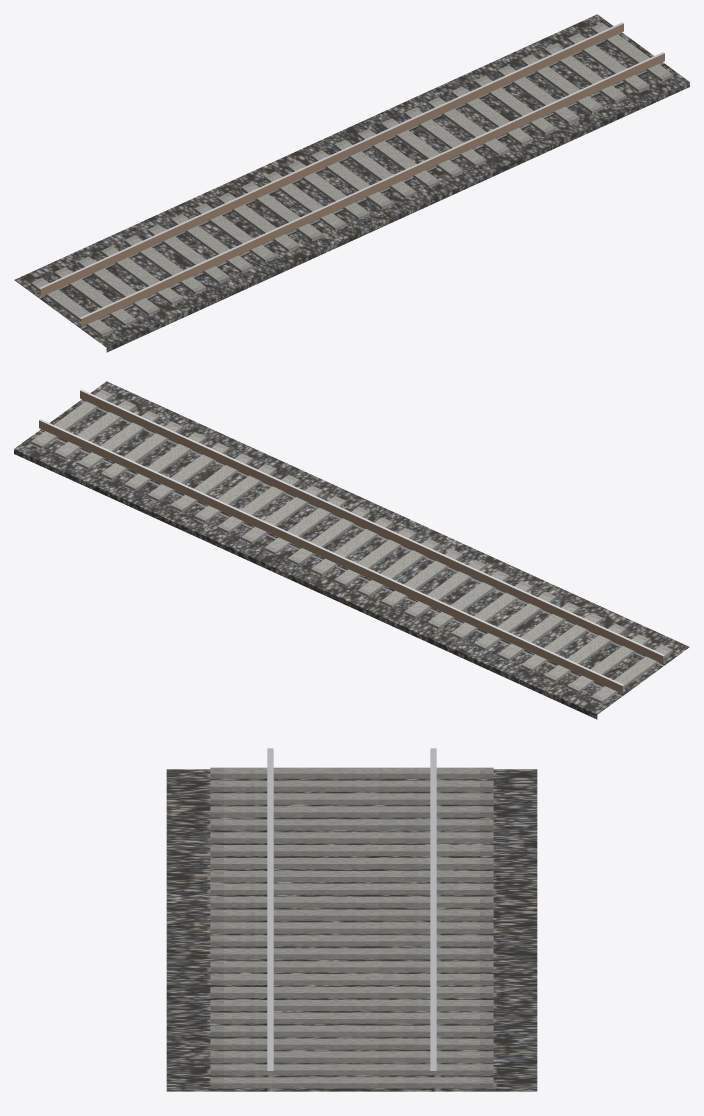
Rendered from kolej_svah_beton_siroka.glb.
The picture shows the model from 3 angles, top to bottom: view 1: azimuth 30°, elevation 25°; view 2: azimuth 150°, elevation 25°; view 3: azimuth 270°, elevation 25°; orthographic projection. The views are drawn at different scales.
Parts seen in each view (by area): view 1: kolej_svah_beton_siroka; view 2: kolej_svah_beton_siroka; view 3: kolej_svah_beton_siroka.
Boxes of the visible parts, x1,y1,x2,y2 form: kolej_svah_beton_siroka: [14, 14, 689, 352]; kolej_svah_beton_siroka: [14, 381, 689, 719]; kolej_svah_beton_siroka: [166, 748, 537, 1091].
Size of the model in its own units: 14.84 by 3.37 by 4.08.
Materials: 4 (2 with a texture image).
